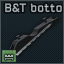MP9 bottom rail: (0, 0, 64, 64)
